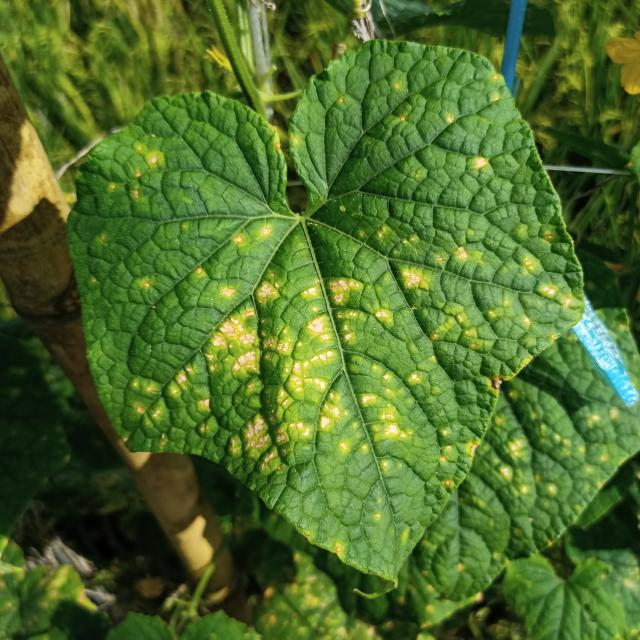disease_cucumber: (91, 89, 564, 514)
